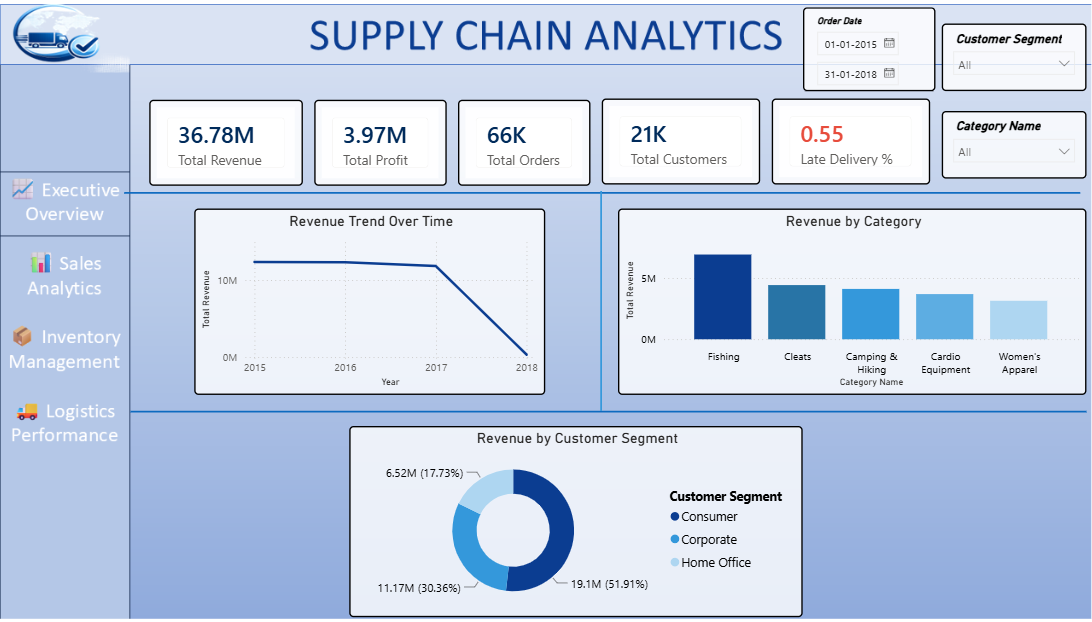

The page's visual inventory and layout, read from the dashboard file:
{"tool":"powerbi","page":{"name":"Performance Monitoring ","canvas":[1366,768],"ordinal":0},"visuals":[{"type":"cardVisual","fields":{"Data":["Measures (2).Total Revenue"]},"box":[218.2,133.3,180.1,101],"z":0},{"type":"cardVisual","fields":{"Data":["Measures (2).Total Profit"]},"box":[411.5,133.3,155.2,101],"z":1000},{"type":"cardVisual","fields":{"Data":["Measures (2).Total Orders"]},"box":[579.9,133.3,155.2,101],"z":2000},{"type":"cardVisual","fields":{"Data":["Measures (2).Total Customers"]},"box":[748.3,131.8,186,101],"z":3000},{"type":"cardVisual","fields":{"Data":["Measures (2).Late Delivery %"]},"box":[947.5,131.8,186,101],"z":4000},{"type":"lineChart","title":"Revenue Trend Over Time","fields":{"Category":["Dim_Date.order date (DateOrders).Variation.Date Hierarchy.Year","Dim_Date.order date (DateOrders).Variation.Date Hierarchy.Quarter","Dim_Date.order date (DateOrders).Variation.Date Hierarchy.Month","Dim_Date.order date (DateOrders).Variation.Date Hierarchy.Day"],"Y":["Measures (2).Total Revenue"]},"box":[270.9,260.7,411.5,218.2],"z":5000},{"type":"shape","box":[188.9,224.1,1120.3,36.6],"z":6000},{"type":"slicer","fields":{"Values":["Dim_Date.order date (DateOrders)"]},"box":[984.1,24.9,155.2,98.1],"z":7000},{"type":"slicer","fields":{"Values":["Dim_Customer.Customer Segment"]},"box":[1146.6,43.9,169.9,79.1],"z":8000},{"type":"slicer","fields":{"Values":["Dim_Product.Category Name"]},"box":[1146.6,146.4,169.9,79.1],"z":9000},{"type":"shape","box":[196.2,480.3,1120.3,36.6],"z":10000},{"type":"columnChart","title":"Revenue by Category","fields":{"Category":["Dim_Product.Category Name"],"Y":["Measures (2).Total Revenue"]},"box":[767.4,260.7,549.2,218.2],"z":12000},{"type":"donutChart","title":"Revenue by Customer Segment","fields":{"Y":["Measures (2).Total Revenue"],"Category":["Dim_Customer.Customer Segment"]},"box":[452.5,515.5,531.6,224.1],"z":13000},{"type":"shape","box":[8.8,146.4,63,285.6],"z":15000},{"type":"shape","box":[716.1,240.2,63,257.7],"z":18000},{"type":"actionButton","box":[58.6,301.7,120.1,82],"z":18001},{"type":"actionButton","box":[52.7,480.3,136.2,83.5],"z":18003},{"type":"actionButton","box":[51.3,395.4,136.2,83.5],"z":18004}]}

Visuals, with their boxes in screenshot pixels (x1, y1, x2, y2), scaled from the page's 1366x768 canvas onto the 1092x622 screenshot:
cardVisual - Measures (2).Total Revenue: <box>174,108,318,190</box>
cardVisual - Measures (2).Total Profit: <box>329,108,453,190</box>
cardVisual - Measures (2).Total Orders: <box>464,108,588,190</box>
cardVisual - Measures (2).Total Customers: <box>598,107,747,189</box>
cardVisual - Measures (2).Late Delivery %: <box>757,107,906,189</box>
"Revenue Trend Over Time" lineChart: <box>217,211,546,388</box>
shape: <box>151,181,1047,211</box>
slicer - Dim_Date.order date (DateOrders): <box>787,20,911,100</box>
slicer - Dim_Customer.Customer Segment: <box>917,36,1052,100</box>
slicer - Dim_Product.Category Name: <box>917,119,1052,183</box>
shape: <box>157,389,1052,419</box>
"Revenue by Category" columnChart: <box>613,211,1053,388</box>
"Revenue by Customer Segment" donutChart: <box>362,418,787,599</box>
shape: <box>7,119,57,350</box>
shape: <box>572,195,623,403</box>
actionButton: <box>47,244,143,311</box>
actionButton: <box>42,389,151,457</box>
actionButton: <box>41,320,150,388</box>
